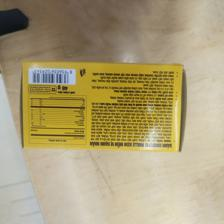Molle: (16, 58, 191, 155)
